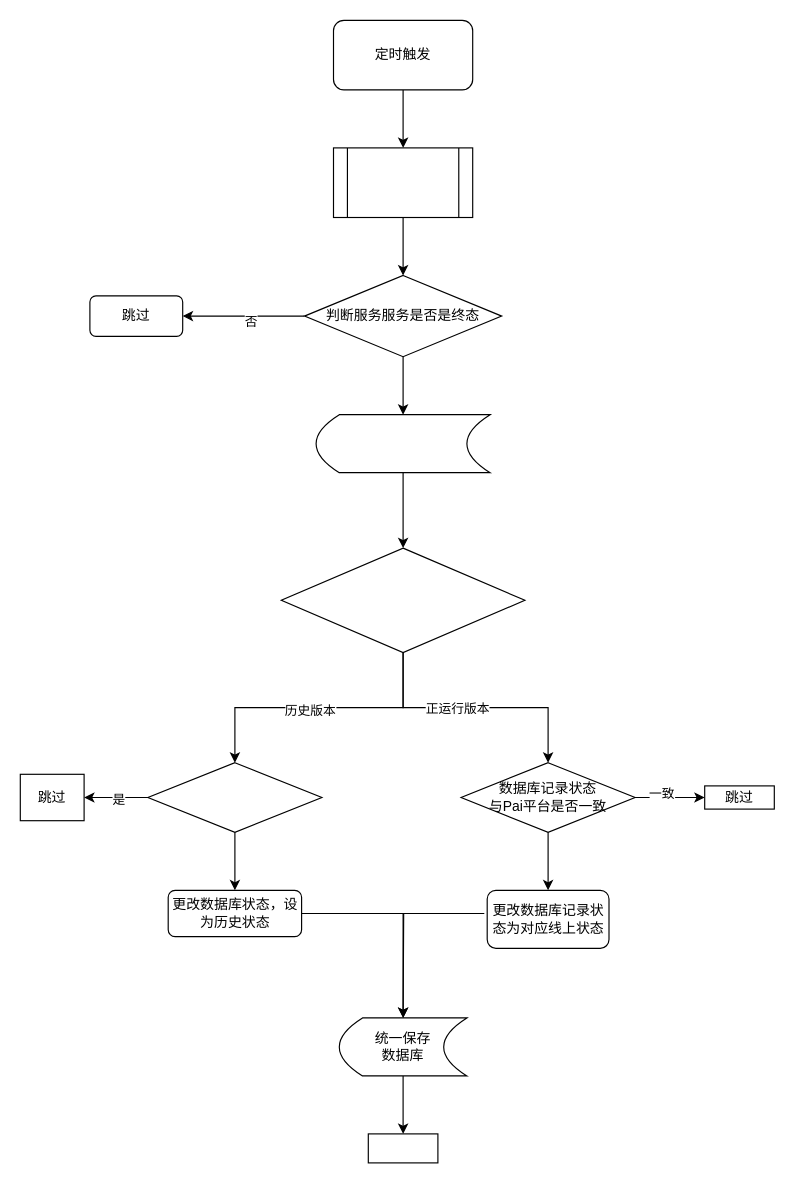
This 795x1183 diagram has some shape labels left out. Each missing label, with the centre of its shape:
"PAI平台查询所有服务并遍历" belongs at (402,182).
"数据库记录 是否为历史状态" belongs at (234,797).
"结束" belongs at (402,1148).
"获取服务对应数据库 所有版本记录" belongs at (402,443).
"遍历数据库版本号，根据Pai平台 判断对应版本是否是正运行" belongs at (402,599).
